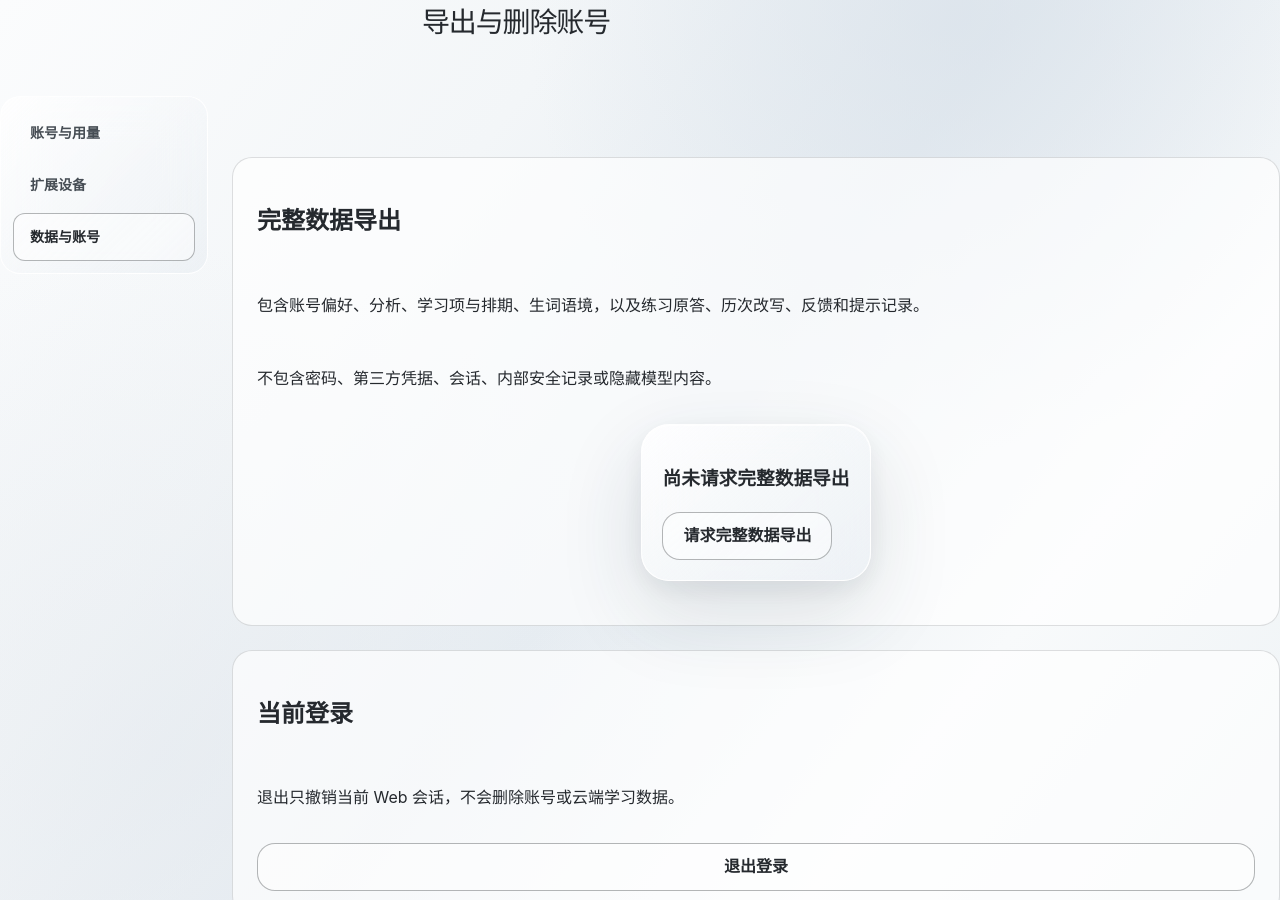
Test: Web account data rights › loads an honest empty state and creates one export
Expected: the heading "导出与删除账号" is shown, [422,8,610,37]
Expected: the link "数据与账号" is shown, [13,213,195,261]
Click the button "请求完整数据导出".
click(748, 536)  # box [662,512,832,560]
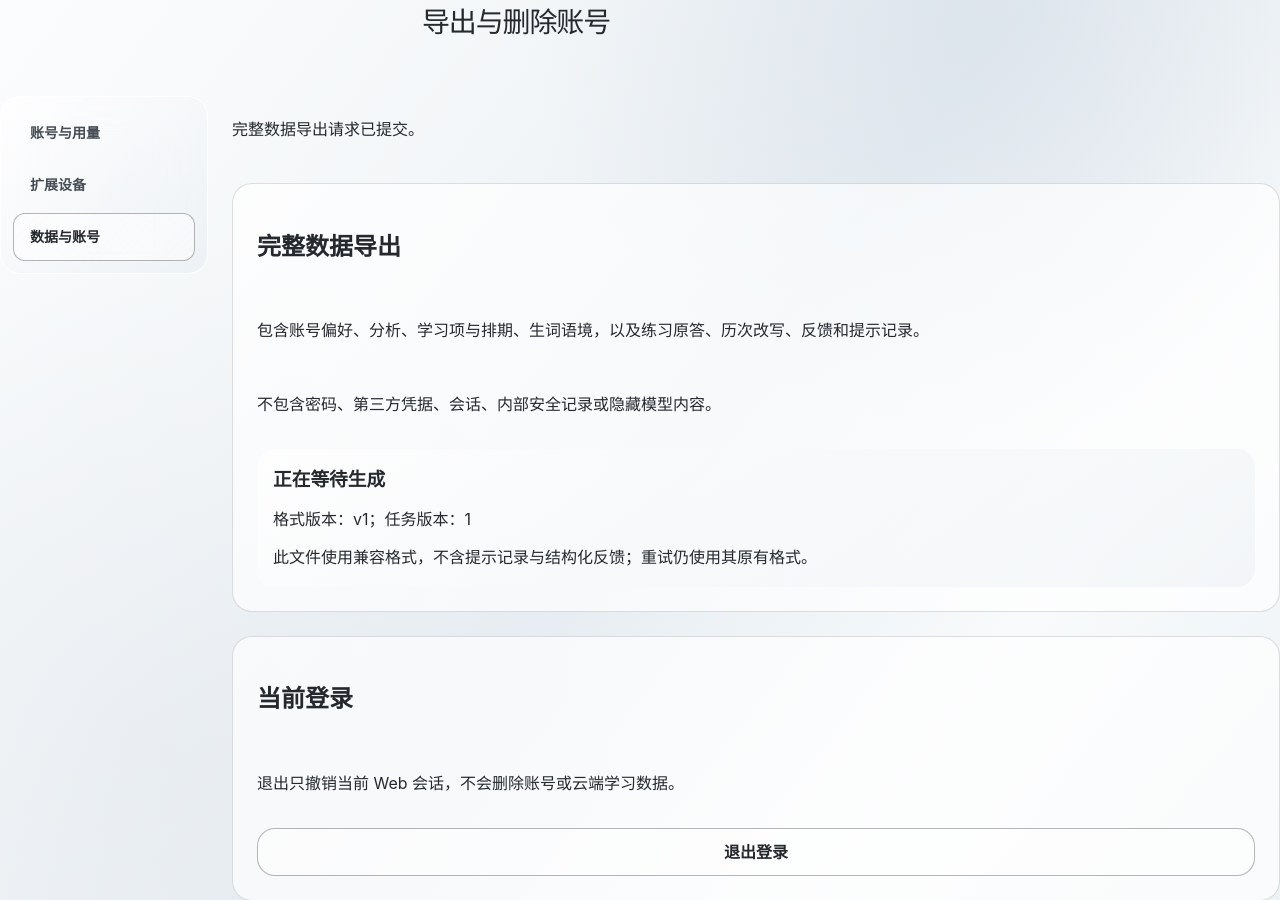
Expected: the text "正在等待生成" is shown, [273,468,385,491]
